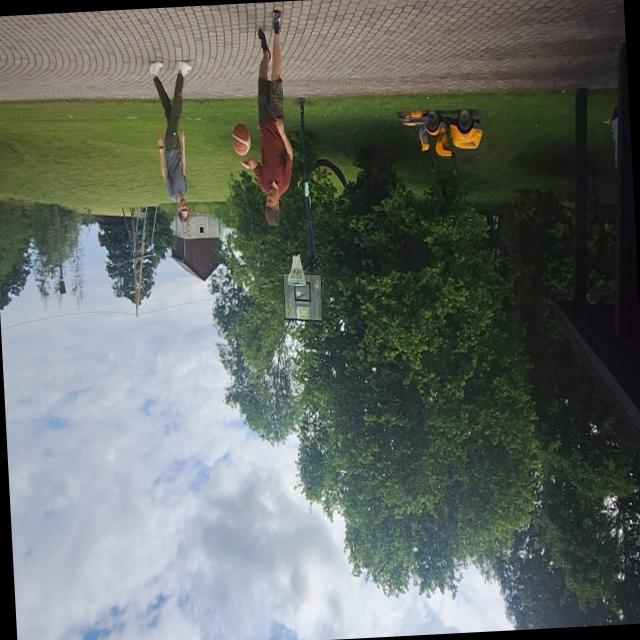ball: (228, 121, 254, 160)
hoop: (282, 253, 306, 292)
player: (223, 8, 300, 234), (144, 57, 203, 228)
